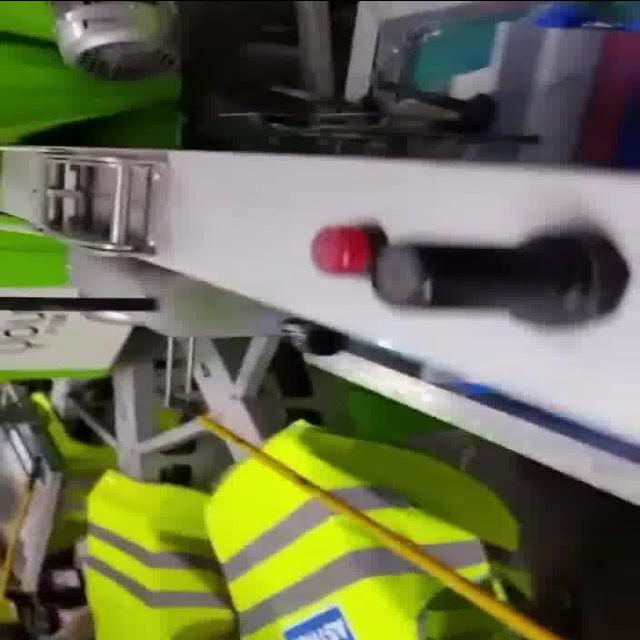vest: (205, 414, 524, 640), (78, 468, 237, 640)
